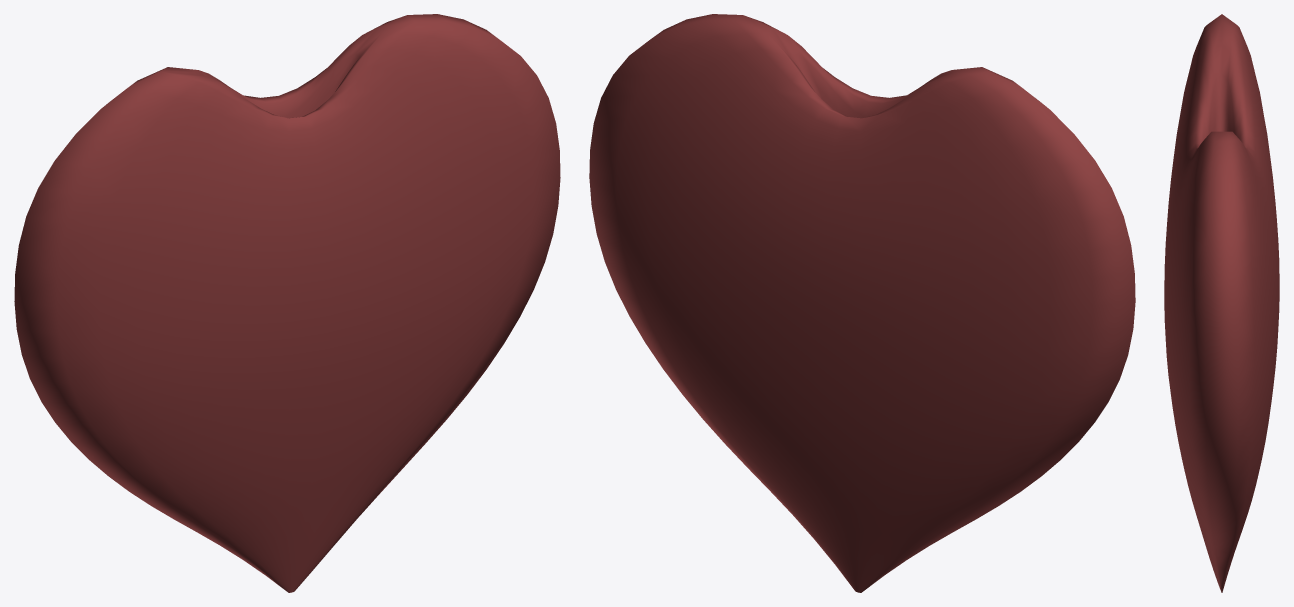
The model's file is Heart.fbx.
The picture shows the model from 3 angles, left to right: view 1: azimuth 30°, elevation 25°; view 2: azimuth 150°, elevation 25°; view 3: azimuth 270°, elevation 25°; orthographic projection. The views are drawn at different scales.
Visible parts, largest first — view 1: nurbsToPoly1; view 2: nurbsToPoly1; view 3: nurbsToPoly1.
Boxes of the visible parts, box(x1,y1,x2,y2) form: nurbsToPoly1: box(14, 14, 560, 592); nurbsToPoly1: box(589, 14, 1135, 592); nurbsToPoly1: box(1164, 14, 1279, 592).
Size of the model in its own units: 8.78 by 8.63 by 1.77.
